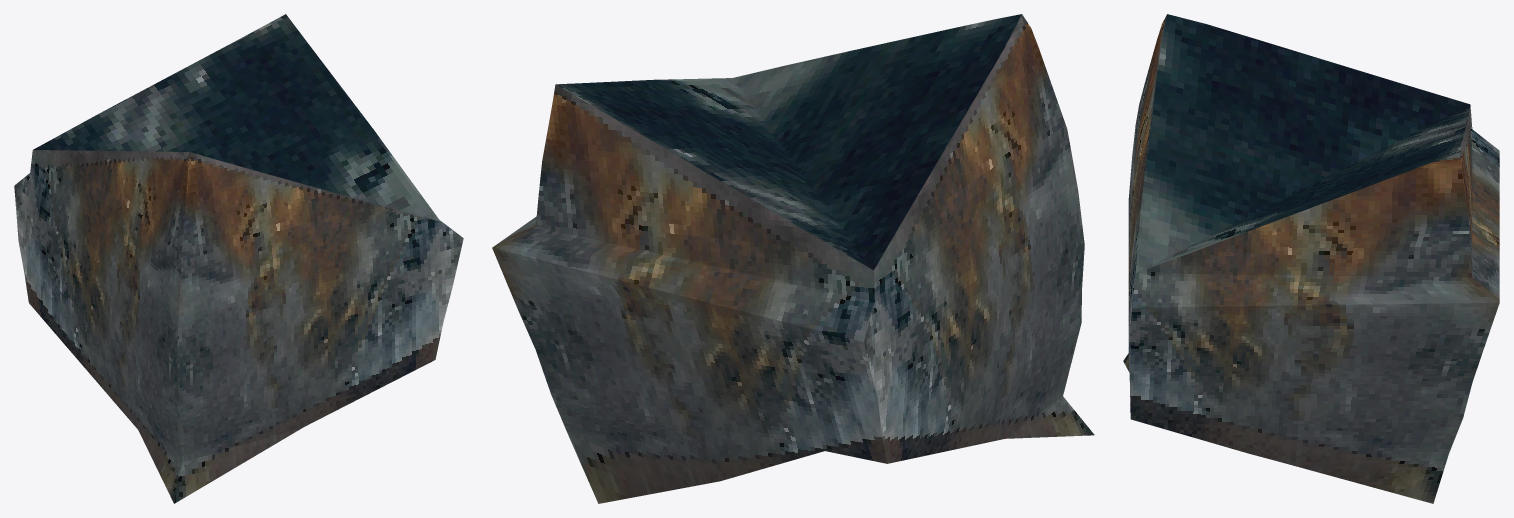
3 renders of one model, left to right at view 1: azimuth 30°, elevation 25°; view 2: azimuth 150°, elevation 25°; view 3: azimuth 270°, elevation 25°, orthographic. The views are drawn at different scales.
Parts seen in each view (by area): view 1: SPLICE_1; view 2: SPLICE_1; view 3: SPLICE_1.
Part boxes in pixels (x1,y1,x2,y2): SPLICE_1: [14, 14, 463, 503]; SPLICE_1: [492, 14, 1094, 503]; SPLICE_1: [1123, 14, 1499, 503].
Size of the model in its own units: 1.36 by 1.49 by 1.35.
1 material, 1 textured.
